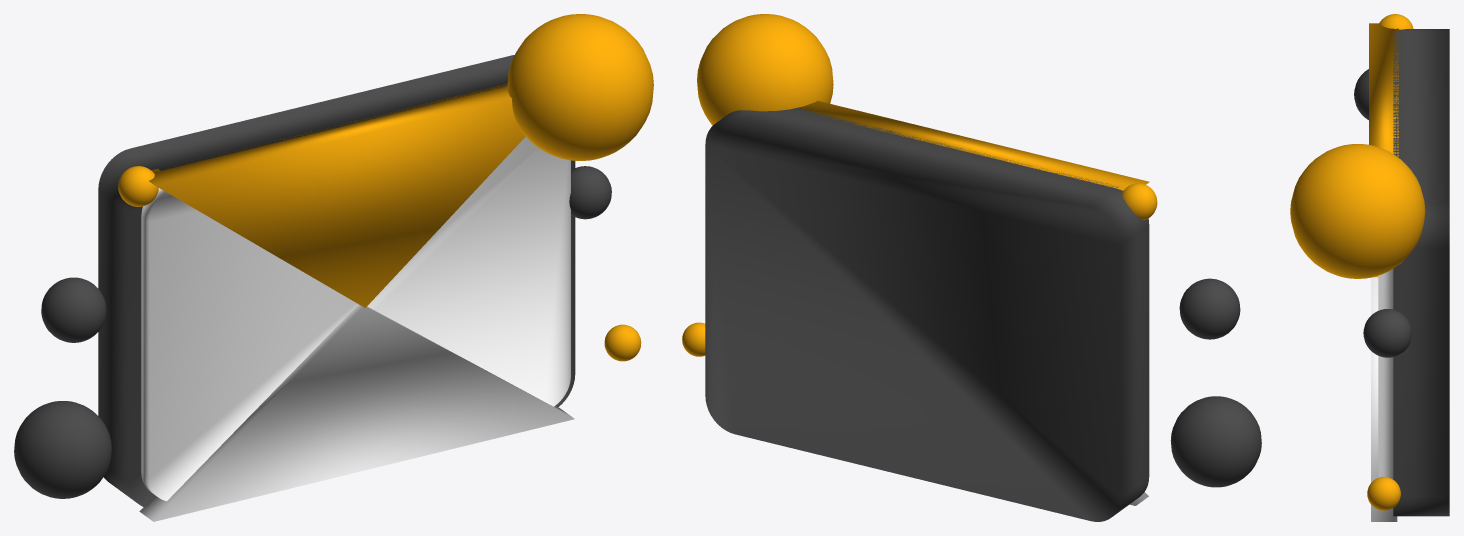
The model's file is email_99.glb.
3 views of the same model, side by side, from view 1: azimuth 30°, elevation 25°; view 2: azimuth 150°, elevation 25°; view 3: azimuth 270°, elevation 25° (orthographic). The views are drawn at different scales.
Parts seen in each view (by area): view 1: EF, EFlap, EFold, EB, EBadge, ES-1.65, ES-1.6, ES1.3, ES-1.2, ES1.5; view 2: EB, EBadge, ES-1.65, EFlap, ES-1.6, ES-1.2, ES1.5; view 3: EB, EBadge, EFlap, EF, ES1.3, EFold, ES1.5, ES-1.6, ES-1.2.
Part boxes in pixels (left/top/right/bottom): EF: left=141, top=136, right=570, bottom=500; EFlap: left=149, top=83, right=525, bottom=307; EFold: left=139, top=304, right=574, bottom=521; EB: left=98, top=55, right=575, bottom=507; EBadge: left=507, top=14, right=653, bottom=160; ES-1.65: left=14, top=401, right=111, bottom=498; ES-1.6: left=41, top=277, right=106, bottom=342; ES1.3: left=569, top=166, right=611, bottom=219; ES-1.2: left=118, top=166, right=158, bottom=206; ES1.5: left=604, top=324, right=641, bottom=361; EB: left=705, top=108, right=1149, bottom=521; EBadge: left=697, top=14, right=833, bottom=125; ES-1.65: left=1170, top=396, right=1261, bottom=487; EFlap: left=797, top=101, right=1149, bottom=190; ES-1.6: left=1179, top=278, right=1240, bottom=339; ES-1.2: left=1122, top=183, right=1157, bottom=219; ES1.5: left=682, top=322, right=705, bottom=356; EB: left=1393, top=29, right=1449, bottom=516; EBadge: left=1290, top=144, right=1425, bottom=278; EFlap: left=1369, top=23, right=1398, bottom=277; EF: left=1378, top=269, right=1393, bottom=479; ES1.3: left=1363, top=309, right=1412, bottom=357; EFold: left=1371, top=277, right=1397, bottom=521; ES1.5: left=1367, top=477, right=1400, bottom=510; ES-1.6: left=1354, top=69, right=1368, bottom=119; ES-1.2: left=1379, top=14, right=1413, bottom=29.
Size of the model in its own units: 3.48 by 2.18 by 0.85.
